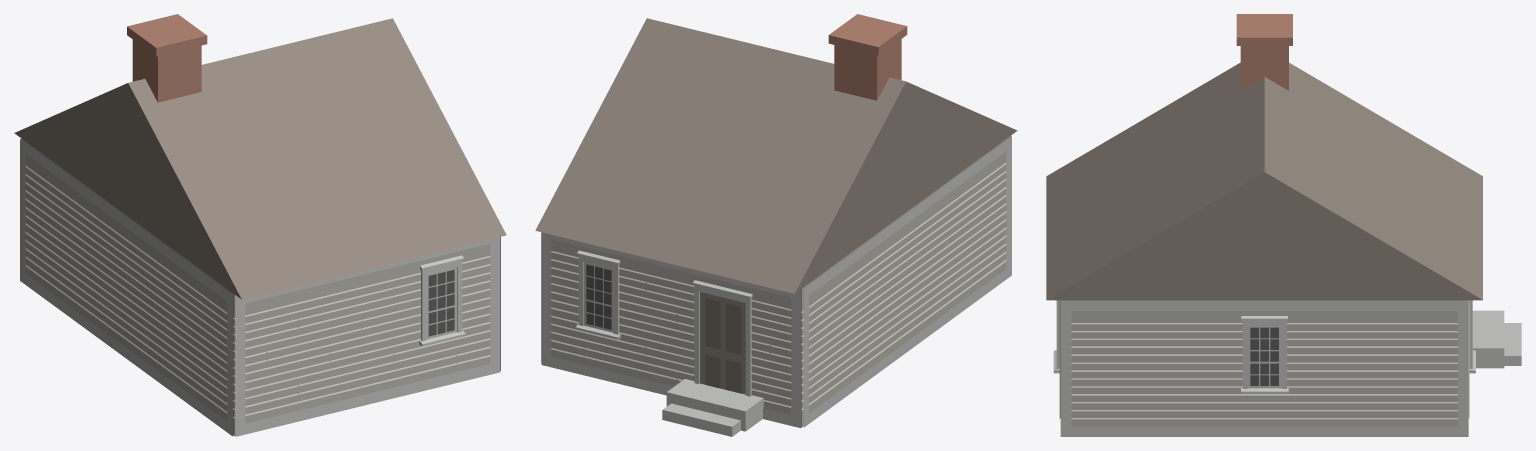
File: recon_1835_blk_west_washington_canal_d3_04__inferred_1835.glb
The picture shows the model from 3 angles, left to right: view 1: azimuth 30°, elevation 25°; view 2: azimuth 150°, elevation 25°; view 3: azimuth 270°, elevation 25°; orthographic projection. The views are drawn at different scales.
Visible parts, largest first — view 1: recon_1835_blk_west_washington_canal_d3_04__inferred_1835; view 2: recon_1835_blk_west_washington_canal_d3_04__inferred_1835; view 3: recon_1835_blk_west_washington_canal_d3_04__inferred_1835.
Part boxes in pixels (x1,y1,x2,y2): recon_1835_blk_west_washington_canal_d3_04__inferred_1835: (14, 14, 506, 436); recon_1835_blk_west_washington_canal_d3_04__inferred_1835: (535, 14, 1017, 436); recon_1835_blk_west_washington_canal_d3_04__inferred_1835: (1046, 14, 1521, 436).
Size of the model in its own units: 5.25 by 5.85 by 8.27.
